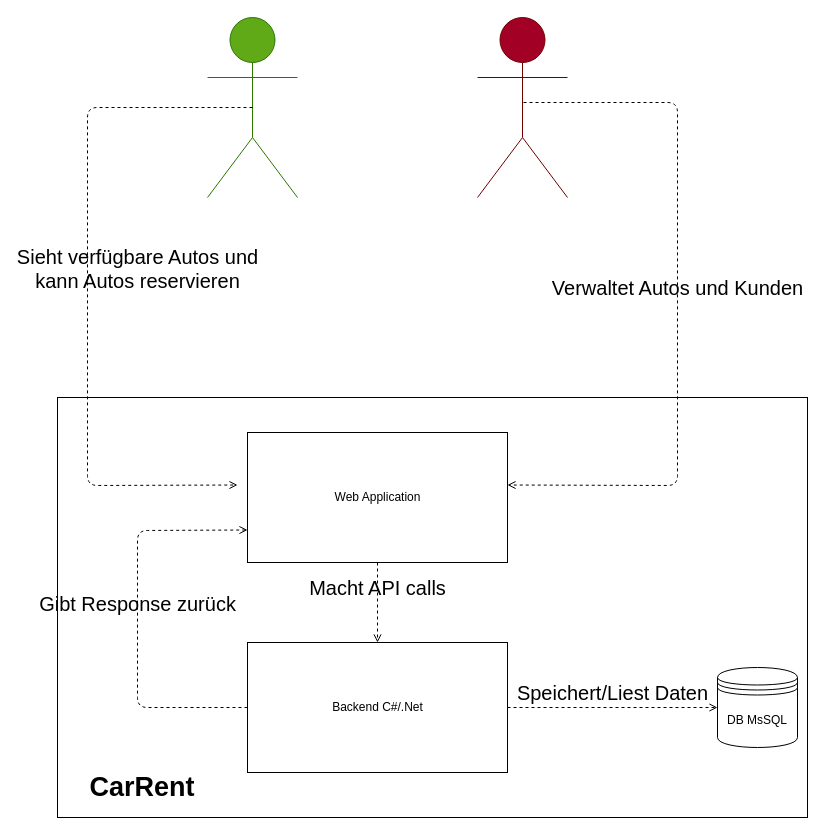
Image size: 825x835. Some labels were removed from this diagram. Here are the shapes that lost their labels. From the top down, the centre of each, then its label:
At point 252,107: "Kunde".
At point 522,107: "Sachbearbeiter".
